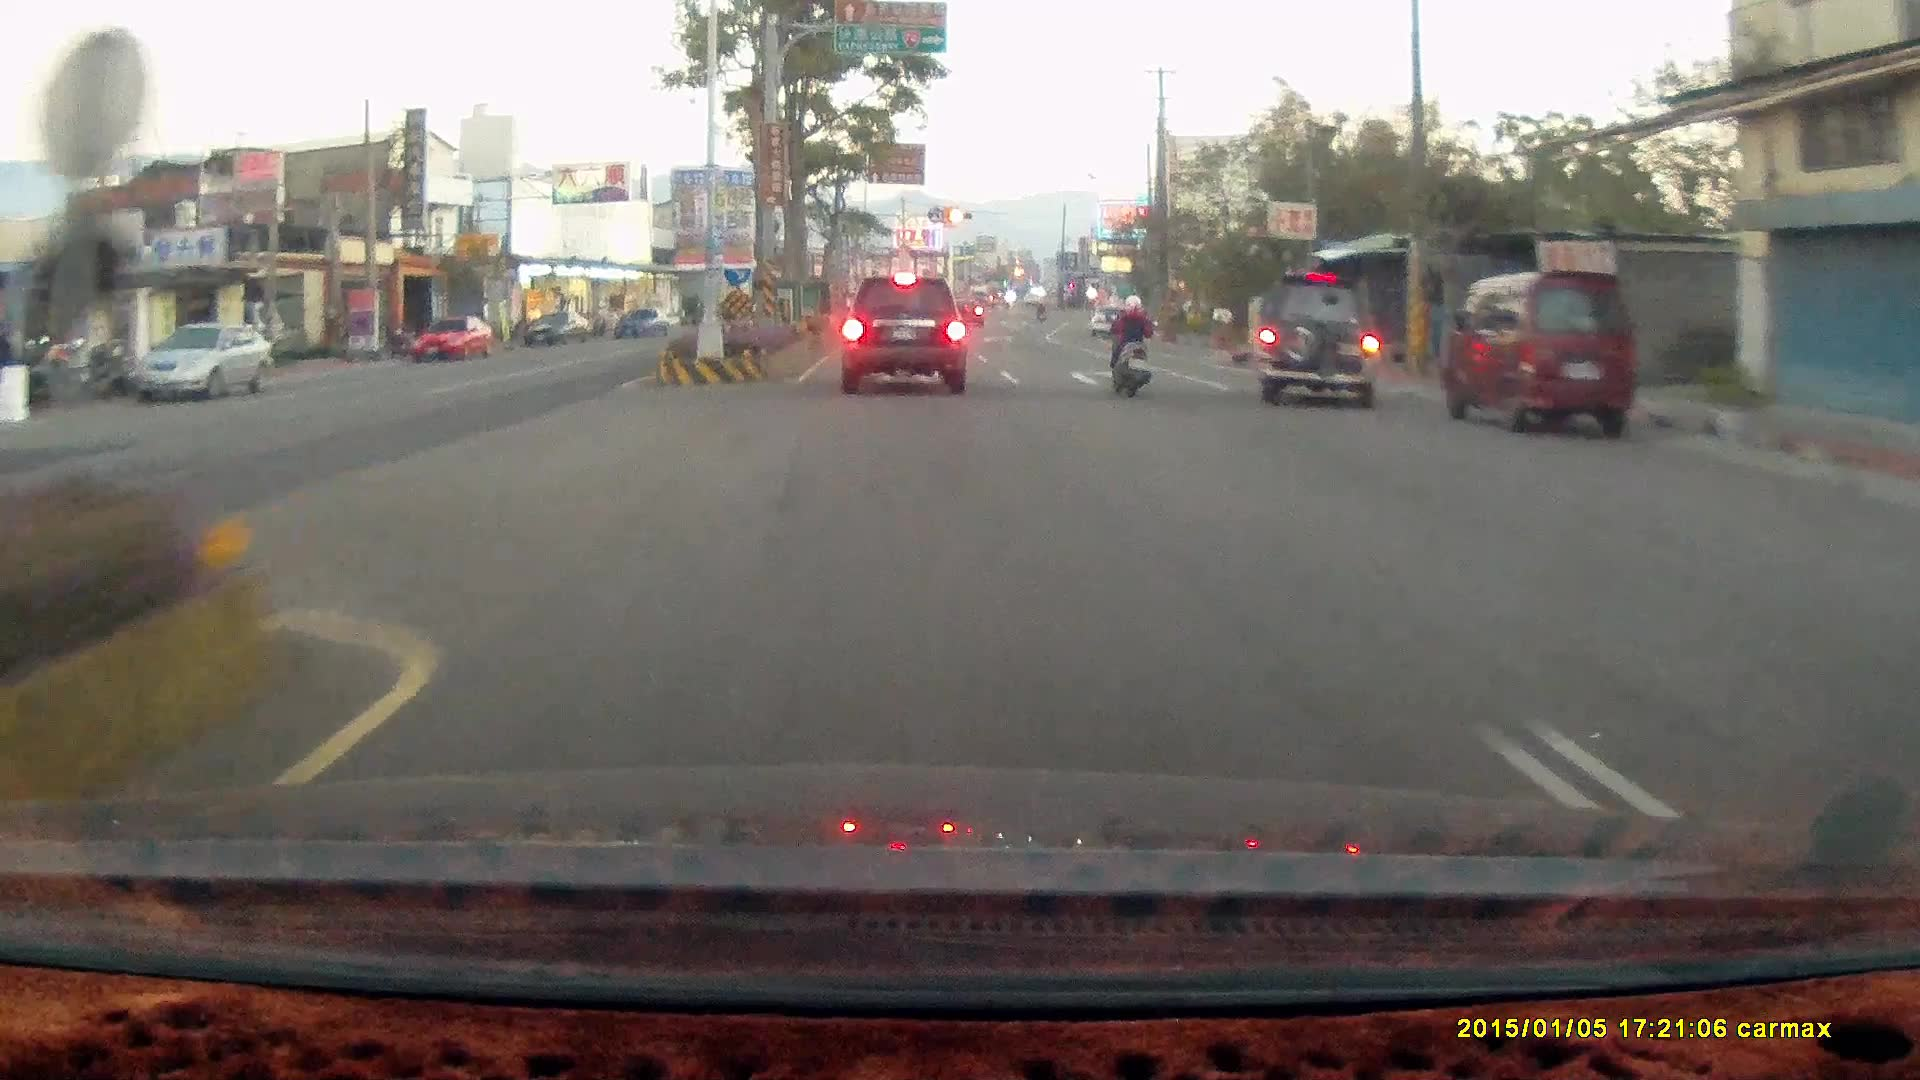rider: (1106, 290, 1154, 397)
vehicle: (1439, 270, 1639, 440), (1439, 269, 1638, 439), (1249, 272, 1388, 402), (1252, 272, 1381, 408), (837, 275, 967, 394), (127, 321, 276, 403), (132, 320, 274, 402), (1896, 493, 1920, 836), (1883, 528, 1920, 690), (409, 311, 490, 363), (408, 313, 489, 362), (1088, 305, 1132, 337)
